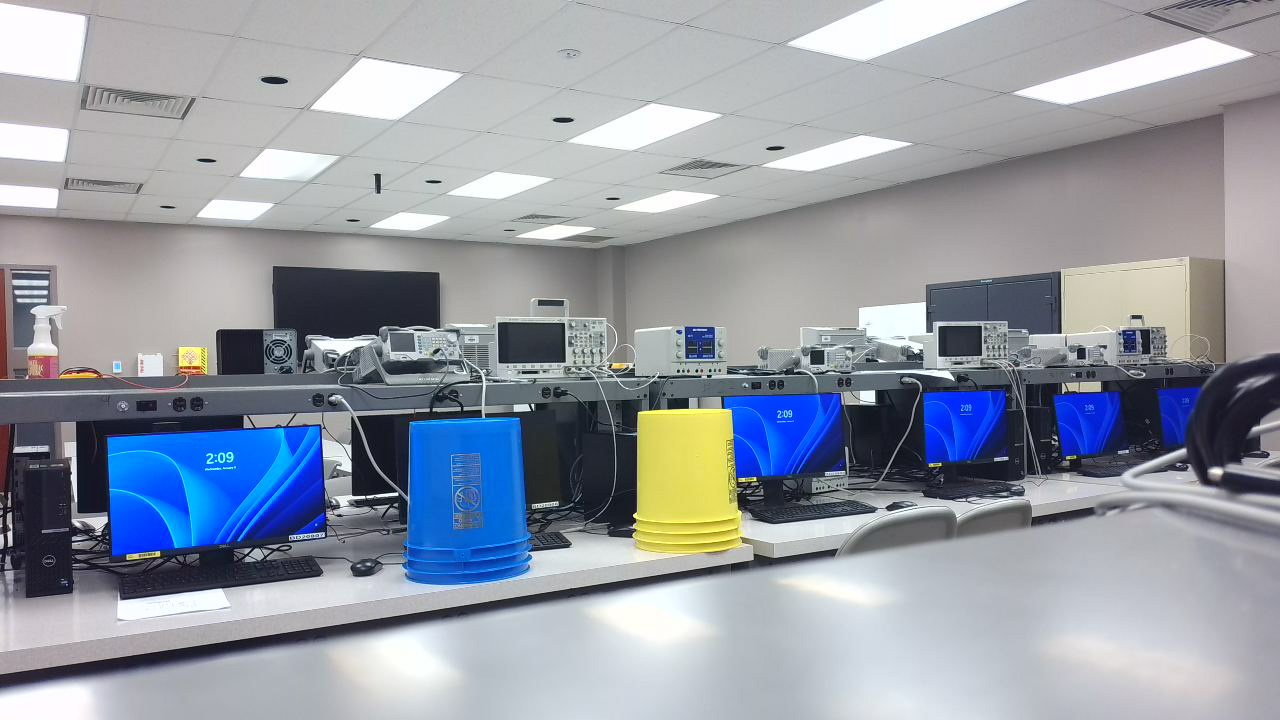blue_bucket: (404, 417, 545, 595)
yellow_bucket: (630, 410, 753, 564)
